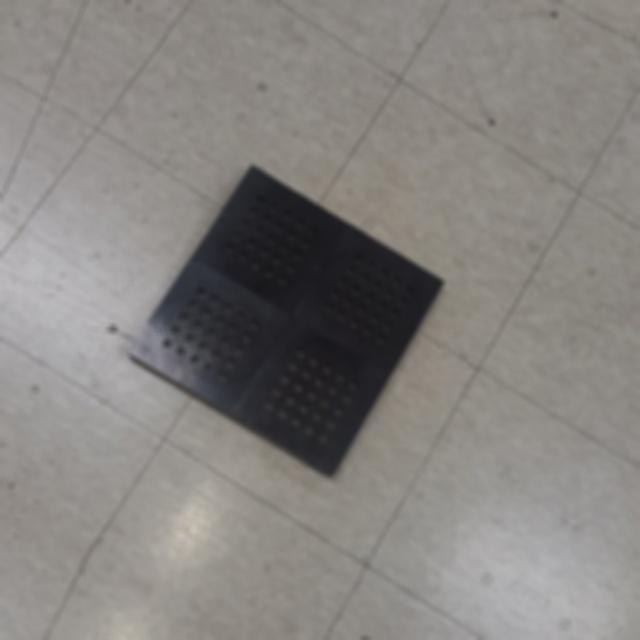pallet: (118, 152, 455, 486)
